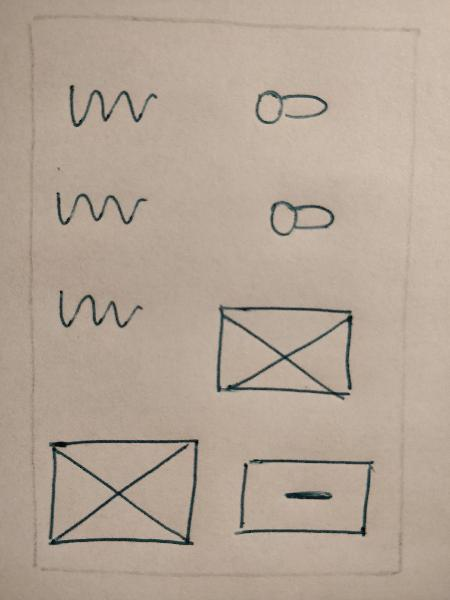button: (233, 451, 376, 544)
image: (43, 435, 201, 550), (210, 299, 356, 403)
switch: (247, 80, 337, 136), (259, 190, 339, 245)
text: (49, 282, 153, 348), (52, 181, 150, 236), (59, 78, 160, 130)
